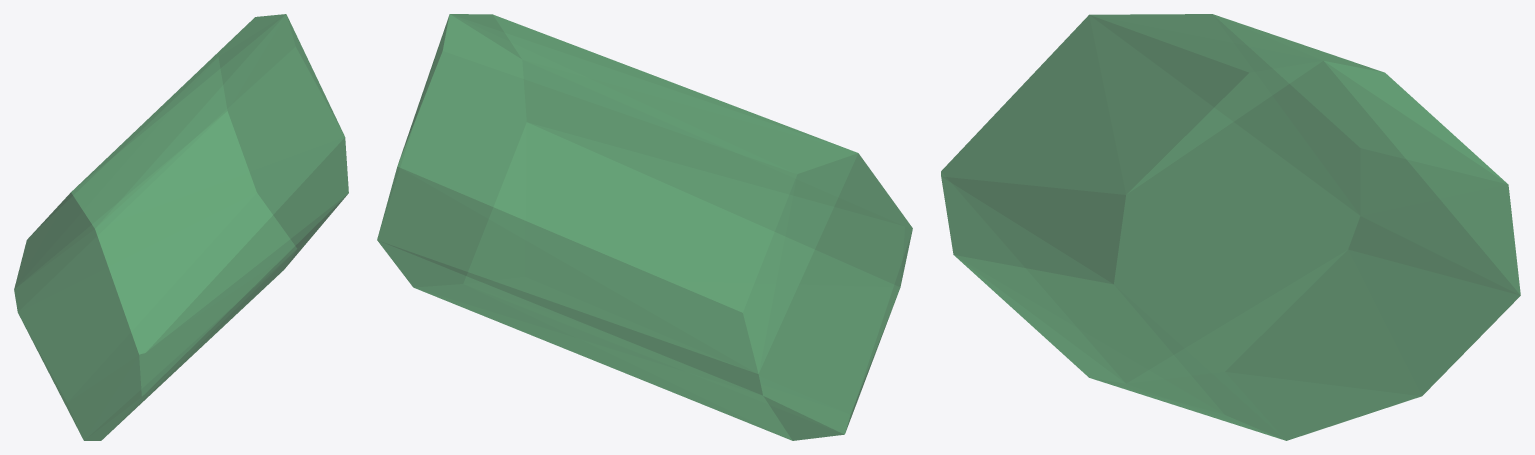
3 views of the same model, side by side, from view 1: azimuth 30°, elevation 25°; view 2: azimuth 150°, elevation 25°; view 3: azimuth 270°, elevation 25° (orthographic). The views are drawn at different scales.
Visible parts, largest first — view 1: Shape_IndexedFaceSet.008_Shape_IndexedFaceSet.16459; view 2: Shape_IndexedFaceSet.008_Shape_IndexedFaceSet.16459; view 3: Shape_IndexedFaceSet.008_Shape_IndexedFaceSet.16459.
Part boxes in pixels (x1,y1,x2,y2): Shape_IndexedFaceSet.008_Shape_IndexedFaceSet.16459: [14, 14, 348, 440]; Shape_IndexedFaceSet.008_Shape_IndexedFaceSet.16459: [377, 14, 912, 440]; Shape_IndexedFaceSet.008_Shape_IndexedFaceSet.16459: [941, 14, 1520, 440].
Bounding box in the file's own units: 0.0935 × 0.1095 × 0.1071.
